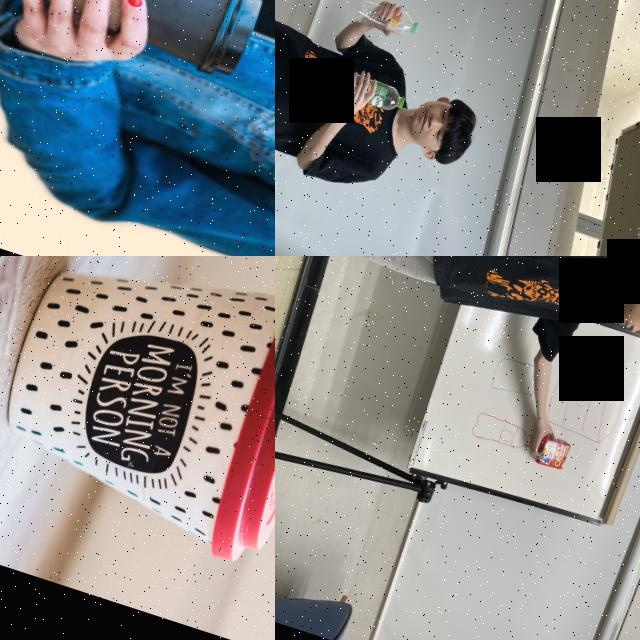bottle: (336, 68, 409, 116), (353, 0, 420, 41)
cup: (0, 256, 275, 577), (0, 0, 265, 85)
